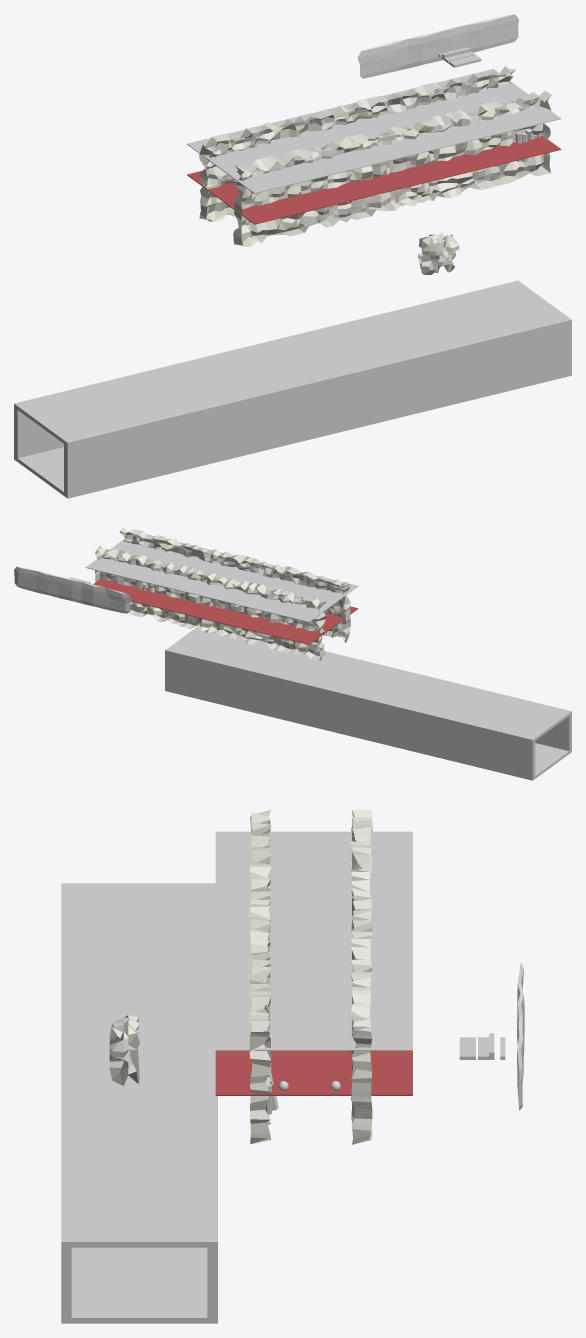
File: KIWI_JAM_ASSETS.fbx
3 renders of one model, top to bottom at view 1: azimuth 30°, elevation 25°; view 2: azimuth 150°, elevation 25°; view 3: azimuth 270°, elevation 25°, orthographic. The views are drawn at different scales.
Parts seen in each view (by area): view 1: Cube, Cube.003, Plane.001, Cube.002, Plane, Plane.002, Cube.001; view 2: Cube, Cube.002, Plane.001, Cube.003, Plane, Plane.002; view 3: Cube, Plane.001, Plane, Cube.002, Cube.003, Cube.001, Plane.002.
Part boxes in pixels (x1=…): Cube: x1=14, y1=280, x2=571, y2=498; Cube.003: x1=233, y1=90, x2=551, y2=246; Plane.001: x1=187, y1=69, x2=561, y2=193; Cube.002: x1=199, y1=66, x2=515, y2=221; Plane: x1=187, y1=135, x2=561, y2=224; Plane.002: x1=357, y1=14, x2=518, y2=78; Cube.001: x1=418, y1=232, x2=459, y2=274; Cube: x1=165, y1=627, x2=571, y2=780; Cube.002: x1=95, y1=545, x2=325, y2=661; Plane.001: x1=85, y1=534, x2=358, y2=622; Cube.003: x1=119, y1=527, x2=350, y2=642; Plane: x1=93, y1=578, x2=358, y2=644; Plane.002: x1=14, y1=566, x2=130, y2=613; Cube: x1=61, y1=883, x2=217, y2=1323; Plane.001: x1=215, y1=831, x2=412, y2=1050; Plane: x1=215, y1=1051, x2=412, y2=1095; Cube.002: x1=351, y1=809, x2=372, y2=1144; Cube.003: x1=249, y1=809, x2=271, y2=1144; Cube.001: x1=109, y1=1015, x2=139, y2=1085; Plane.002: x1=517, y1=962, x2=524, y2=1110.
Size of the model in its own units: 5605 by 1970 by 2537.
